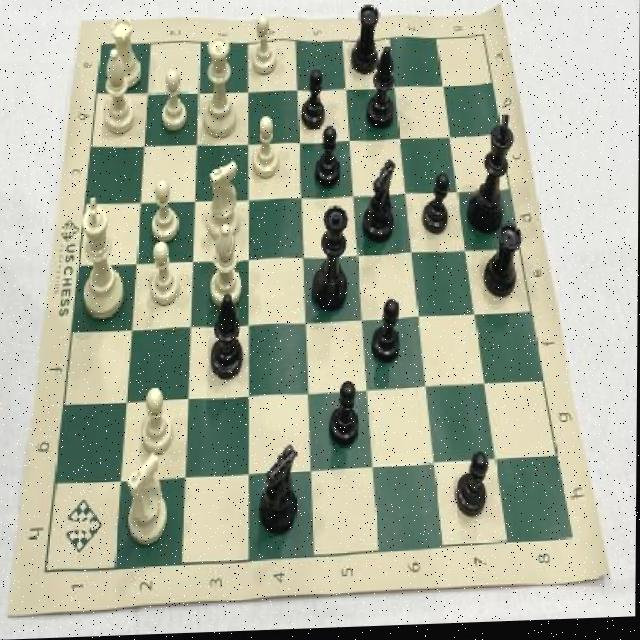bishop: (198, 291, 249, 387), (365, 42, 400, 139)
black-bishop: (466, 108, 519, 244)
black-knight: (452, 450, 494, 527), (325, 376, 363, 456), (367, 296, 404, 371), (296, 63, 330, 135), (312, 121, 344, 197), (420, 171, 453, 242)
black-pawn: (309, 203, 354, 317)
black-queen: (479, 222, 525, 309), (347, 3, 383, 83)
black-rook: (206, 220, 249, 314), (98, 45, 138, 140)
white-bishop: (73, 189, 133, 326)
white-king: (123, 452, 176, 551), (205, 156, 245, 243)
white-knight: (136, 381, 178, 459), (146, 239, 186, 312), (148, 171, 184, 247), (248, 112, 283, 184), (158, 65, 192, 137), (249, 15, 281, 83)
white-pawn: (198, 34, 243, 147)
white-queen: (107, 11, 147, 95)
